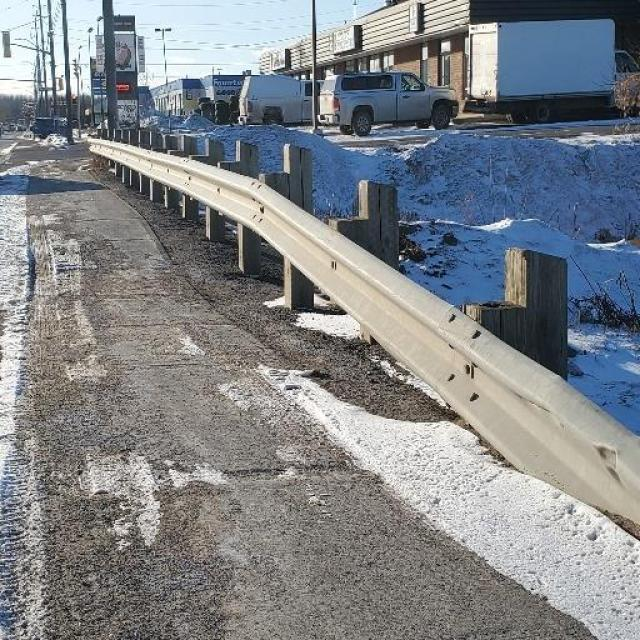Guard rail: (88, 128, 640, 541)
